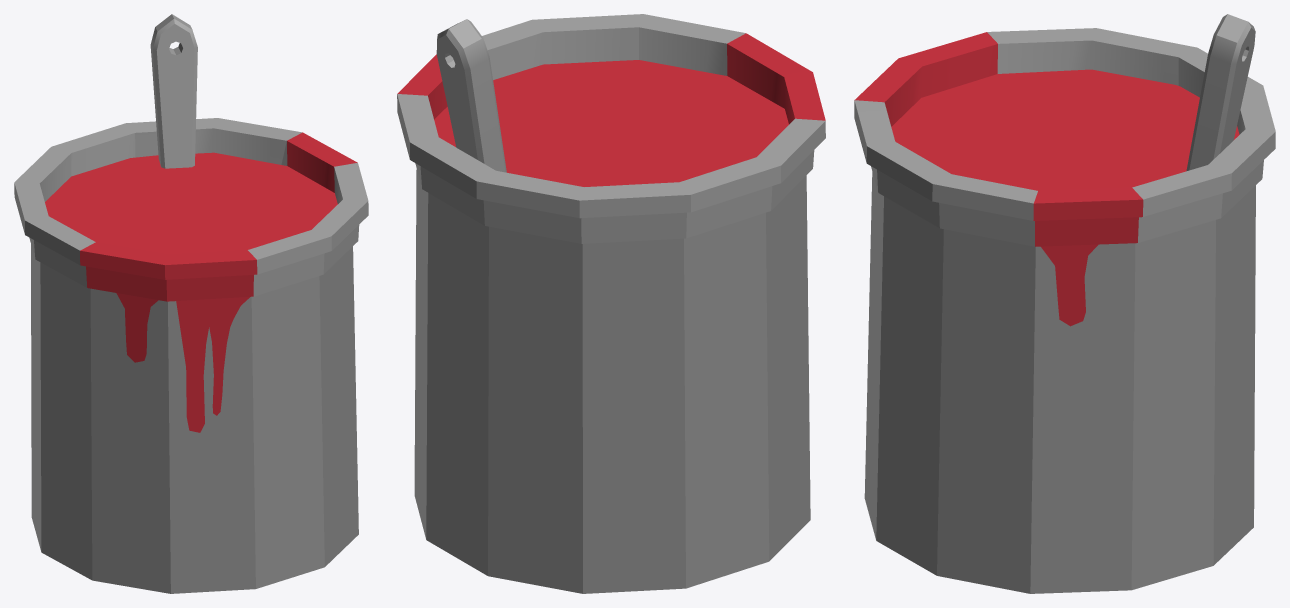
The model's file is bucket.fbx.
3 renders of one model, left to right at view 1: azimuth 30°, elevation 25°; view 2: azimuth 150°, elevation 25°; view 3: azimuth 270°, elevation 25°, orthographic. The views are drawn at different scales.
Parts seen in each view (by area): view 1: pCube3; view 2: pCube3; view 3: pCube3.
Part boxes in pixels (x1=…): pCube3: x1=14, y1=14, x2=368, y2=593; pCube3: x1=397, y1=14, x2=825, y2=593; pCube3: x1=854, y1=14, x2=1275, y2=593.
Bounding box in the file's own units: 85.46 × 119 × 85.48.
Materials: 2 (1 with a texture image).
